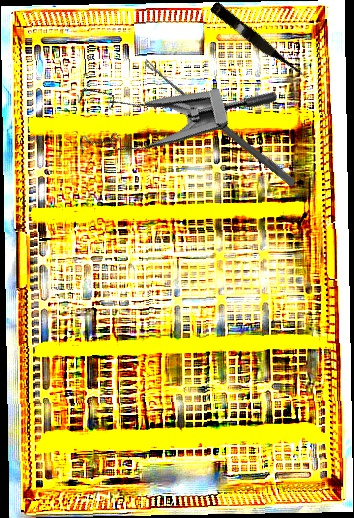Micro Scissor: (207, 0, 309, 85)
Speculum: (55, 13, 281, 190)
Surgical Spoon: (140, 57, 298, 188)
